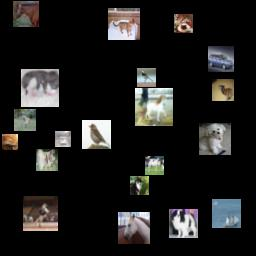automobile: (208, 46, 234, 72)
bird: (82, 120, 111, 149), (137, 68, 156, 87)
cat: (21, 69, 59, 107), (108, 8, 140, 40), (212, 79, 234, 101), (174, 14, 193, 33), (130, 176, 149, 195), (2, 134, 18, 150)
dog: (199, 123, 231, 155), (169, 209, 198, 238), (14, 109, 36, 131), (36, 149, 58, 171)
ship: (212, 199, 241, 228), (55, 131, 71, 147)
